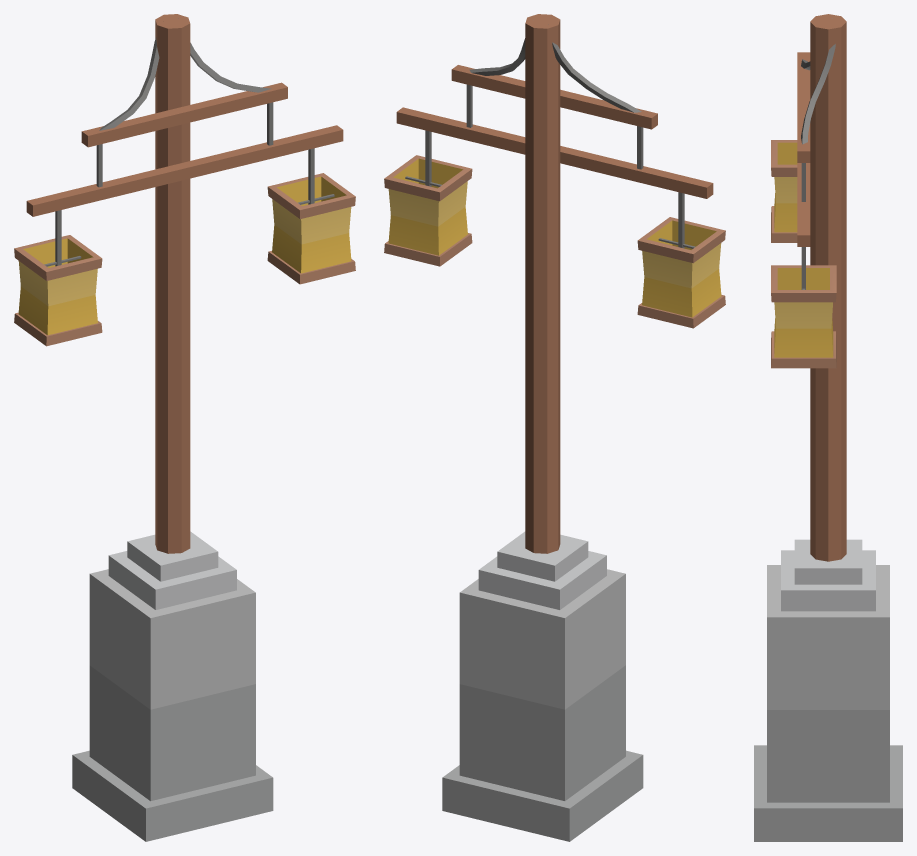
Rendered from lamp_1.fbx.
3 views of the same model, side by side, from view 1: azimuth 30°, elevation 25°; view 2: azimuth 150°, elevation 25°; view 3: azimuth 270°, elevation 25° (orthographic).
Visible parts, largest first — view 1: lamp_1; view 2: lamp_1; view 3: lamp_1.
Boxes of the visible parts, x1,y1,x2,y2 form: lamp_1: [14, 14, 355, 841]; lamp_1: [384, 14, 725, 841]; lamp_1: [754, 14, 902, 841].
Size of the model in its own units: 215 by 514 by 88.
